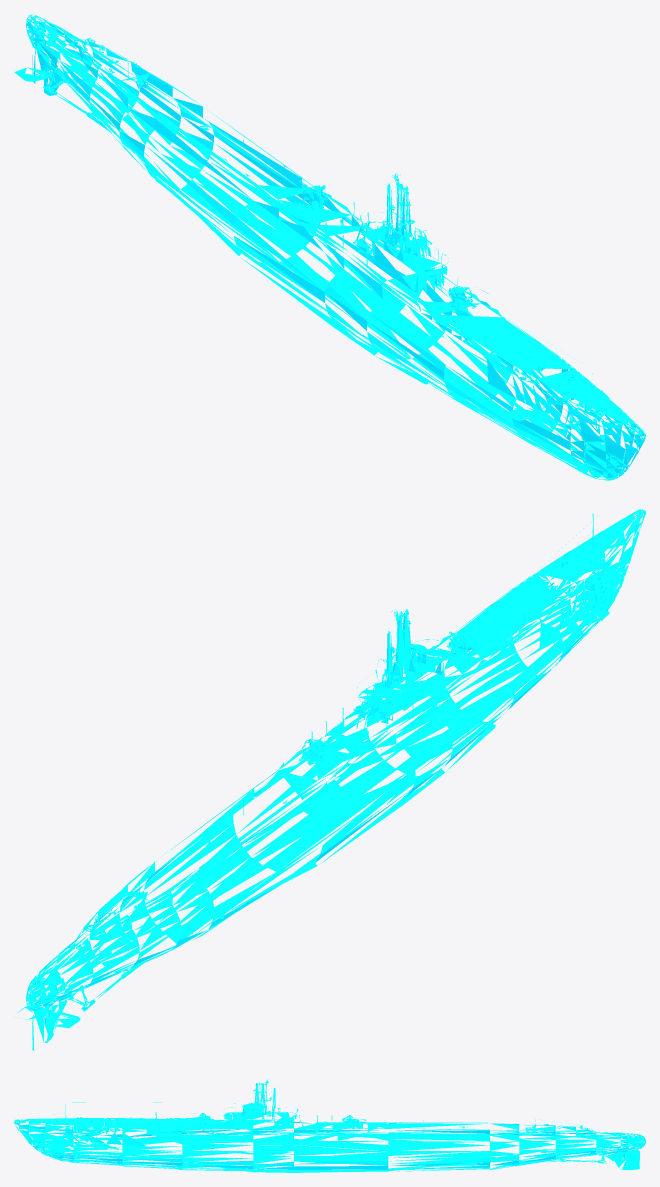
The model's file is Archerfish.glb.
3 views of the same model, one above another, from view 1: azimuth 30°, elevation 25°; view 2: azimuth 150°, elevation 25°; view 3: azimuth 270°, elevation 25° (orthographic). The views are drawn at different scales.
Bounding box in the file's own units: 0.5753 × 0.9992 × 6.33.
